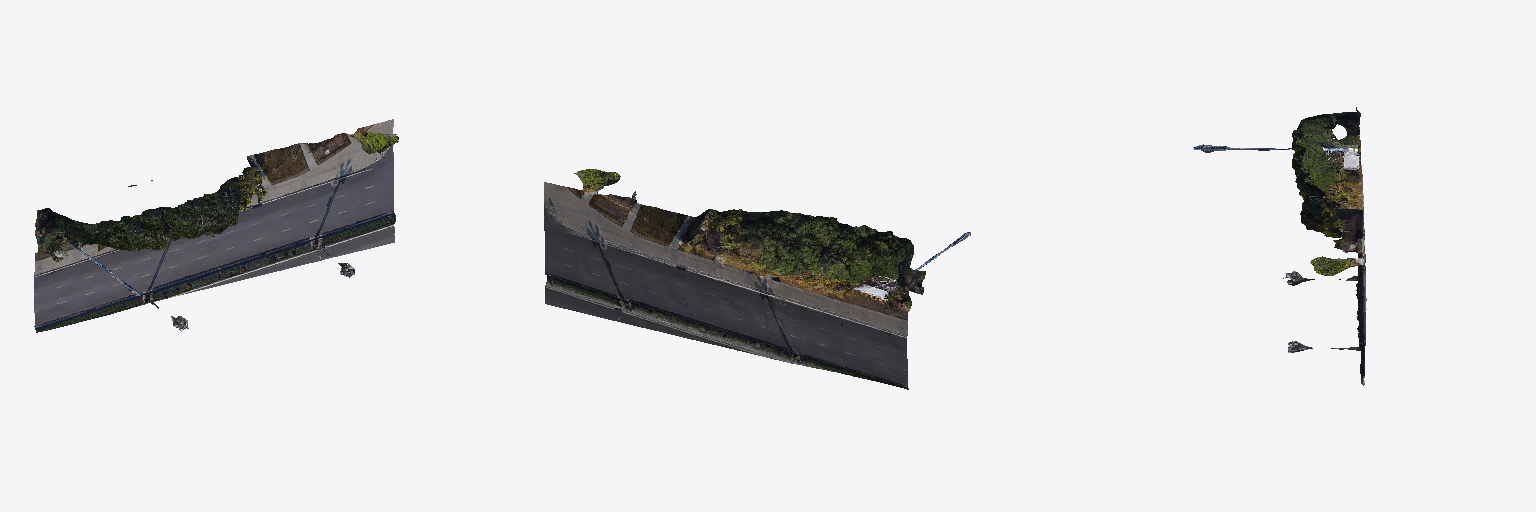
3 views of the same model, side by side, from view 1: azimuth 30°, elevation 25°; view 2: azimuth 150°, elevation 25°; view 3: azimuth 270°, elevation 25° (orthographic).
Bounding box in the file's own units: 76.2 × 24.76 × 31.62.
1 materials, 1 textured.